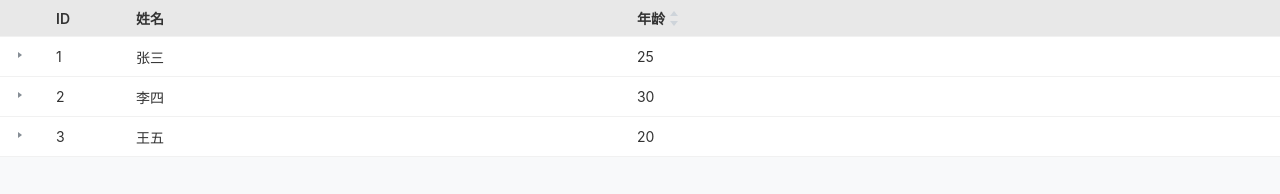
Test: QTable 快照/渲染 › expandedRowRender：展开行渲染额外内容
Click the button named "展开" in the row of "张三" at [22, 55], box [12, 45, 32, 65]
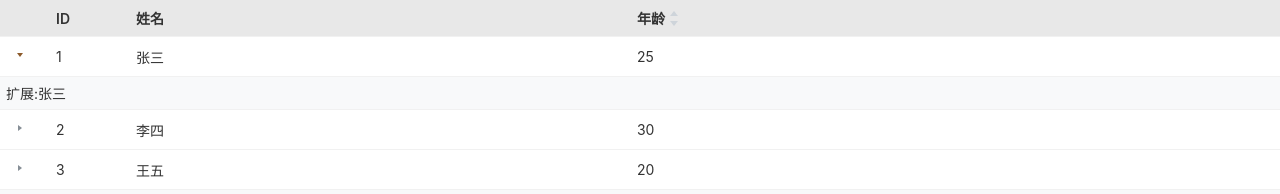
expect the text with class "exp-row" reads "扩展:张三": met, box [6, 85, 66, 102]
